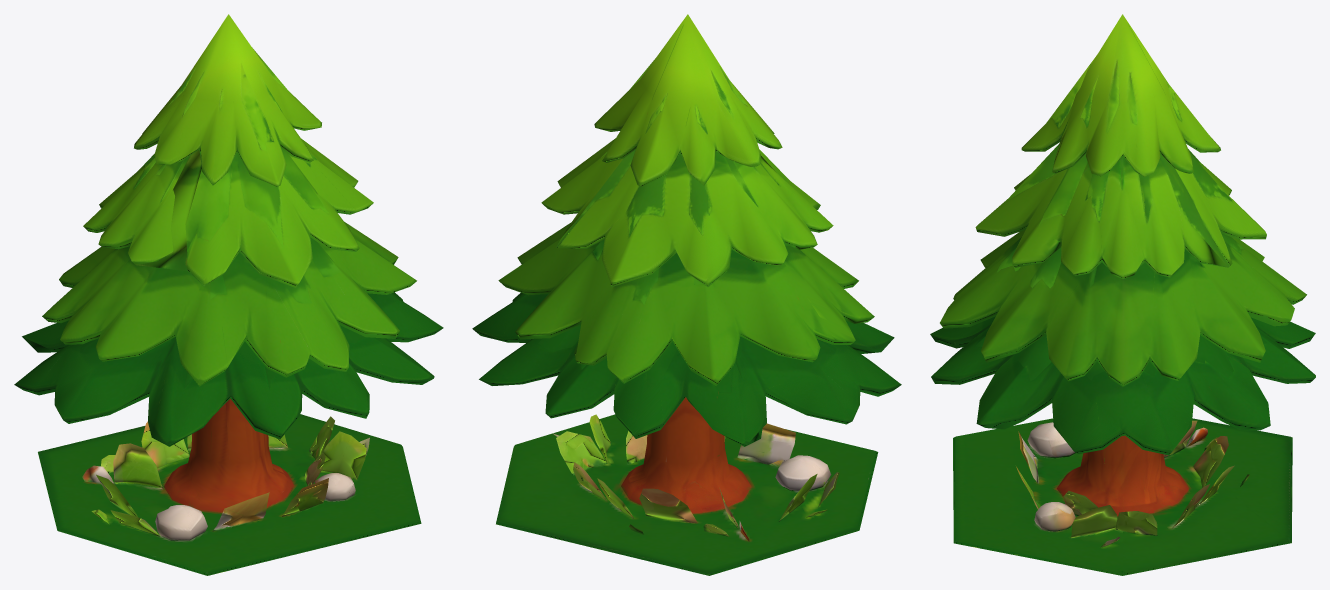
File: etapa100.glb
3 renders of one model, left to right at view 1: azimuth 30°, elevation 25°; view 2: azimuth 150°, elevation 25°; view 3: azimuth 270°, elevation 25°, orthographic.
Size of the model in its own units: 0.8344 by 0.9972 by 0.7299.
1 material, 1 textured.
